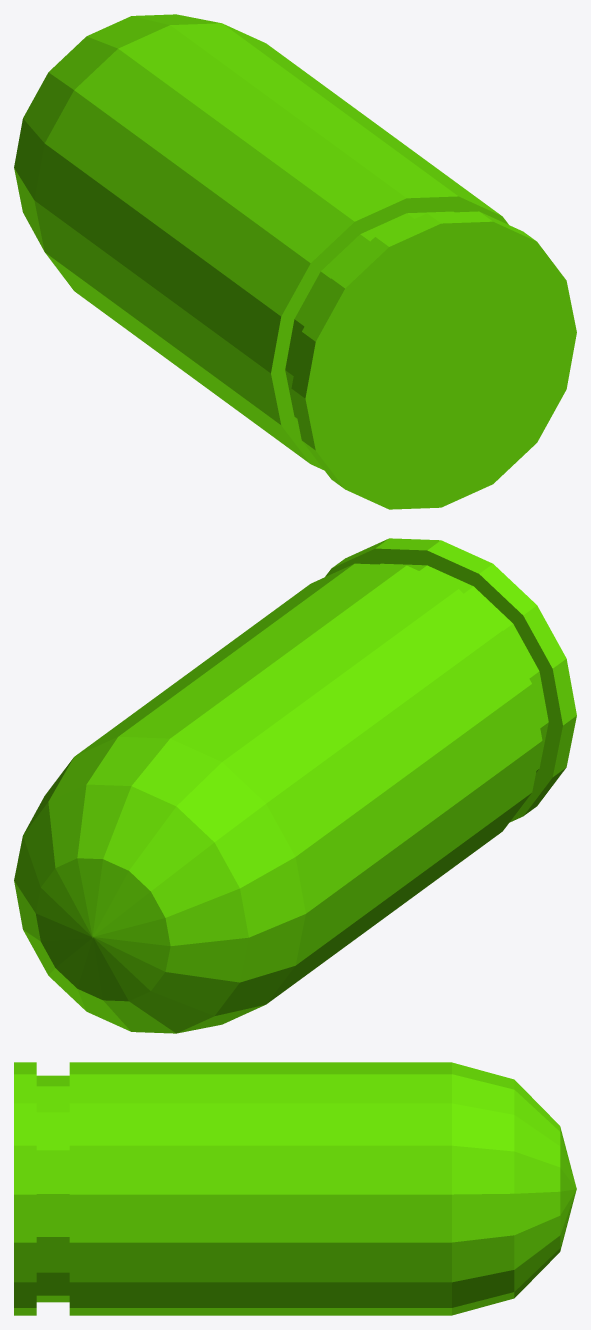
File: Projectile.fbx
3 renders of one model, top to bottom at view 1: azimuth 30°, elevation 25°; view 2: azimuth 150°, elevation 25°; view 3: azimuth 270°, elevation 25°, orthographic. The views are drawn at different scales.
Parts seen in each view (by area): view 1: Projectile; view 2: Projectile; view 3: Projectile.
Part boxes in pixels (x1,y1,x2,y2): Projectile: [14, 14, 576, 509]; Projectile: [14, 538, 576, 1033]; Projectile: [14, 1062, 576, 1315].
Bounding box in the file's own units: 1.79 × 1.79 × 3.97.
